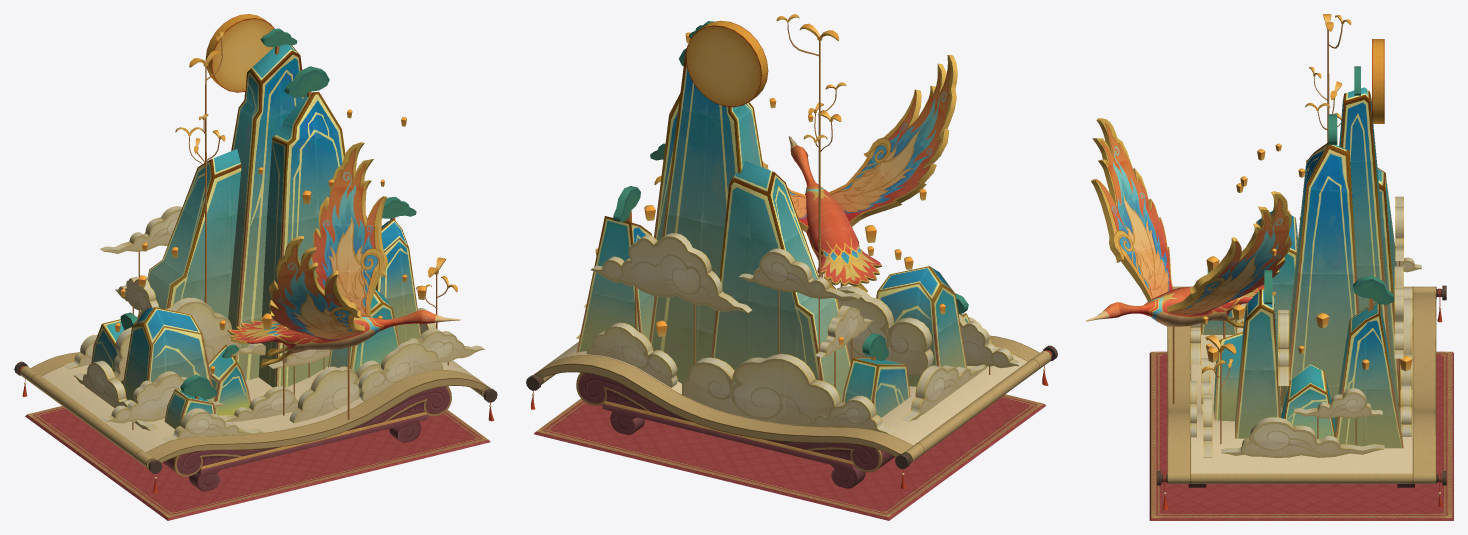
The model's file is Homeworld_Exterior_Ly_Lamp_Build_Goose_01_Lod0.fbx.
3 renders of one model, left to right at view 1: azimuth 30°, elevation 25°; view 2: azimuth 150°, elevation 25°; view 3: azimuth 270°, elevation 25°, orthographic. The views are drawn at different scales.
Visible parts, largest first — view 1: Area_Ly_Light_LYG_Hdj_FlowerLight_02_Lod0; view 2: Area_Ly_Light_LYG_Hdj_FlowerLight_02_Lod0; view 3: Area_Ly_Light_LYG_Hdj_FlowerLight_02_Lod0.
Part boxes in pixels (bbox=[...]): Area_Ly_Light_LYG_Hdj_FlowerLight_02_Lod0: bbox=[14, 14, 497, 520]; Area_Ly_Light_LYG_Hdj_FlowerLight_02_Lod0: bbox=[526, 14, 1057, 520]; Area_Ly_Light_LYG_Hdj_FlowerLight_02_Lod0: bbox=[1086, 14, 1453, 520].
Size of what is drawn, in the model's own units: 16.86 by 17.13 by 13.91.
Materials: 4 (4 with a texture image).
